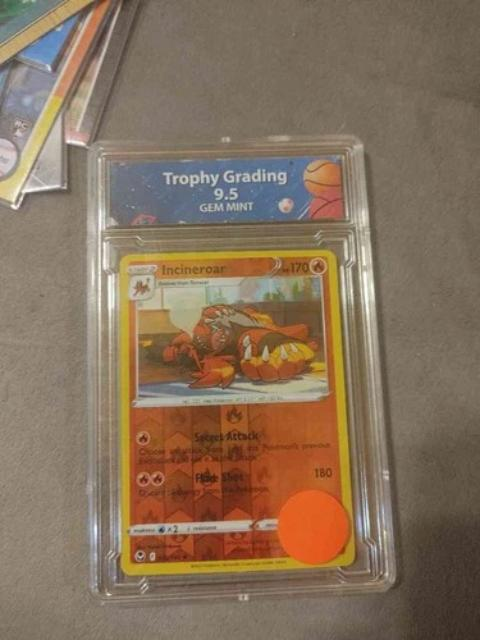Card: (115, 242, 360, 580)
Name: (157, 256, 228, 276)
